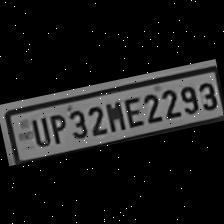2: (83, 100, 108, 136), (156, 85, 181, 121), (139, 89, 163, 125)
3: (64, 105, 89, 140), (194, 76, 218, 112)
9: (174, 80, 200, 116)
E: (120, 93, 144, 129)
M: (102, 96, 126, 132)
P: (44, 110, 68, 146)
U: (26, 113, 51, 148)
